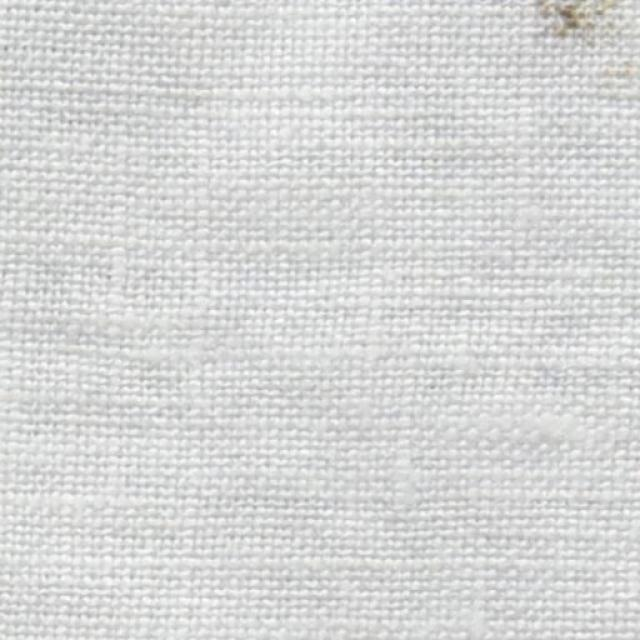Stain: (526, 0, 604, 55)
